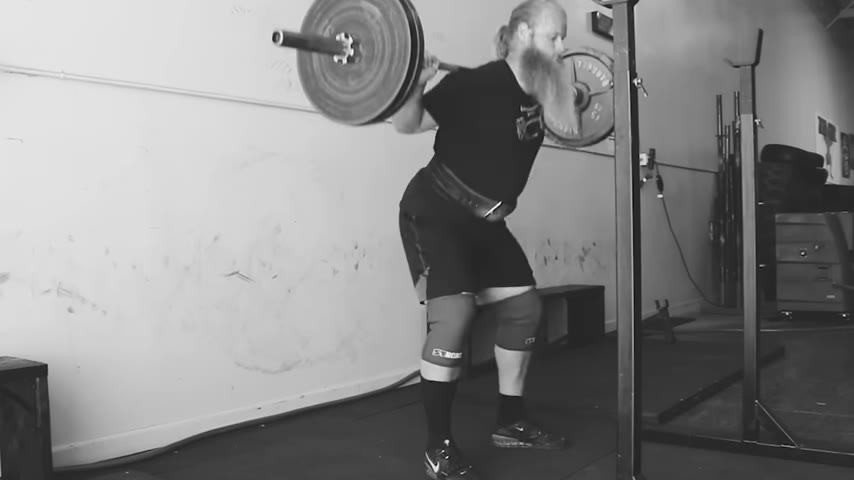barbell_plate_side: (265, 0, 374, 135)
